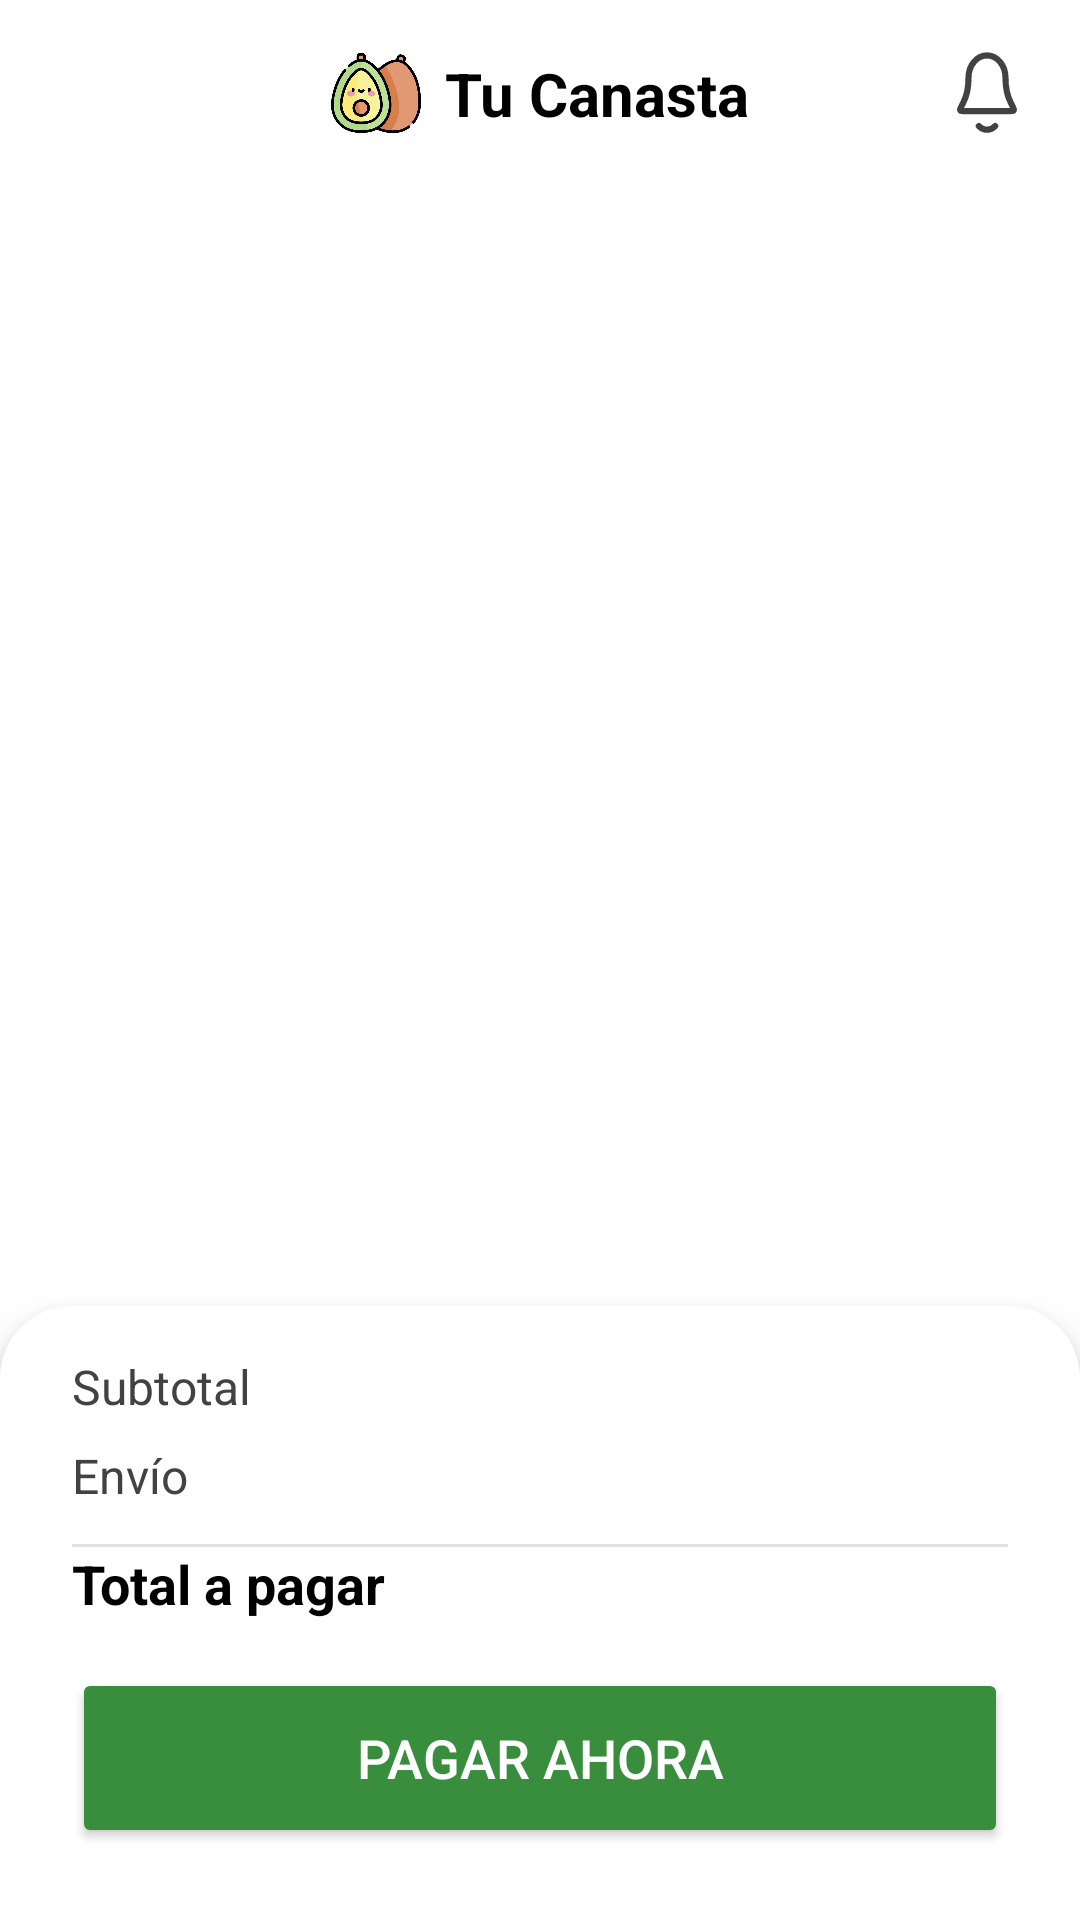

Icon bounding boxes for this 1080*1920 phone screenshot, format box=[x1, y1, x2, y2]:
Notificaciones/Acción: box=[957, 52, 1017, 133]
